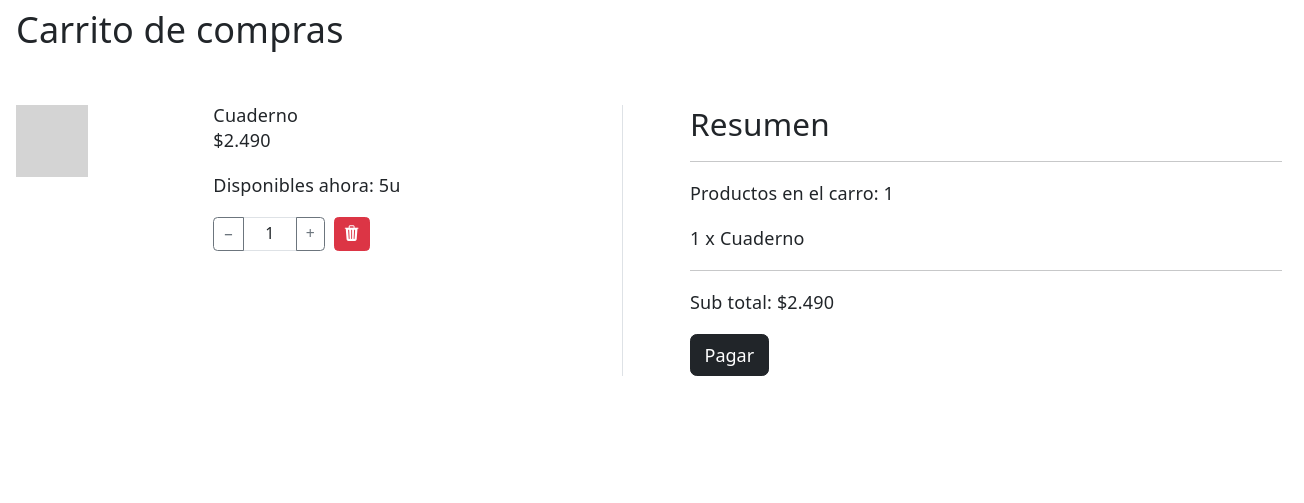
Test: Cart › Pagar con un rol que no es cliente avisa sin navegar
This screenshot has width=1304, height=503.
Click the button "Pagar" at (729, 355), box [690,334,769,376]
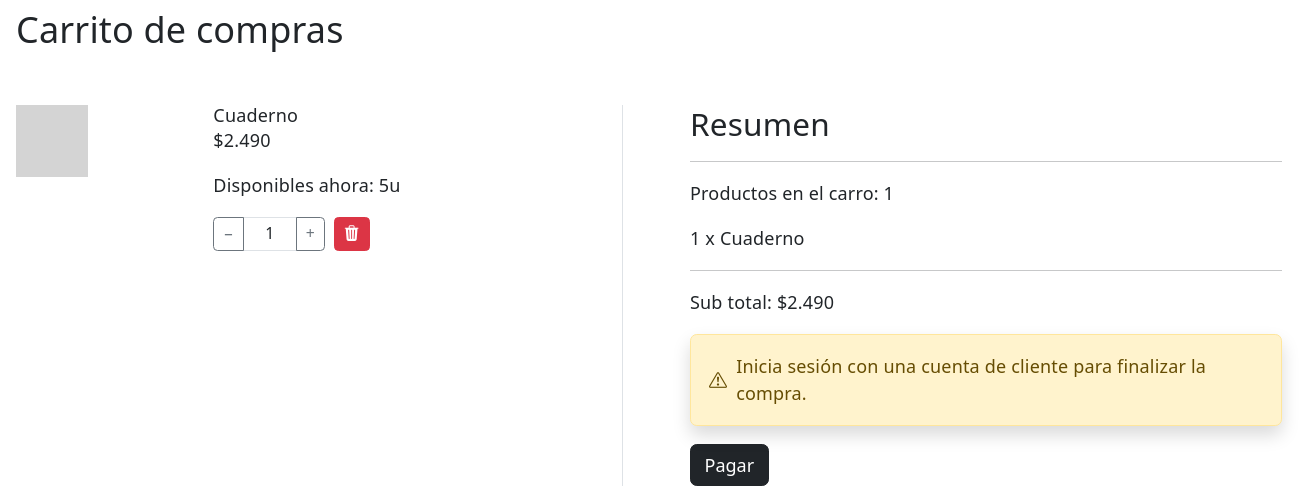
Expected: the text "Inicia sesión con una cuenta de cliente para finalizar la compra." is shown, [736,353,1227,407]
